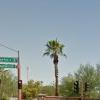Tree: (35, 32, 73, 81)
